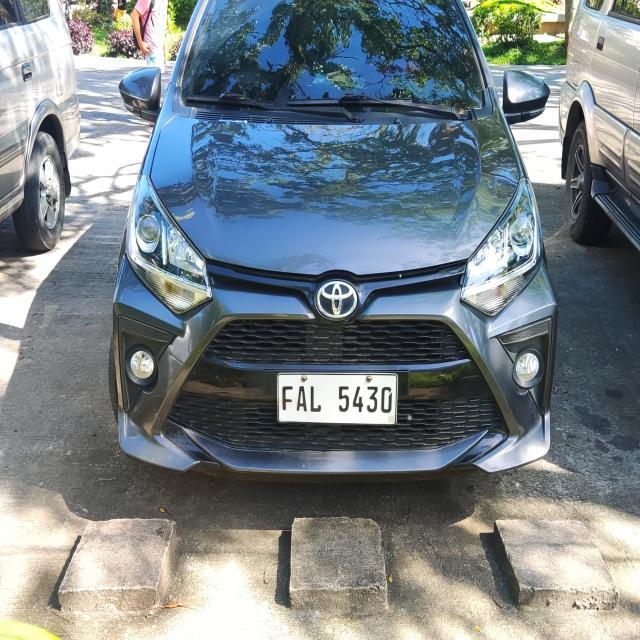LicensePlate: (277, 367, 401, 425)
